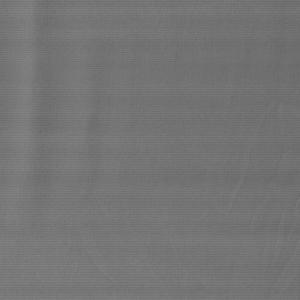Wrinkle: (1, 1, 71, 248)
